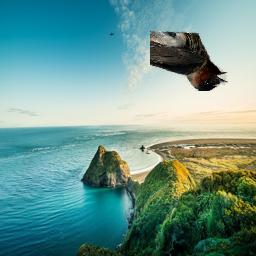Swallow: (150, 31, 228, 92)
